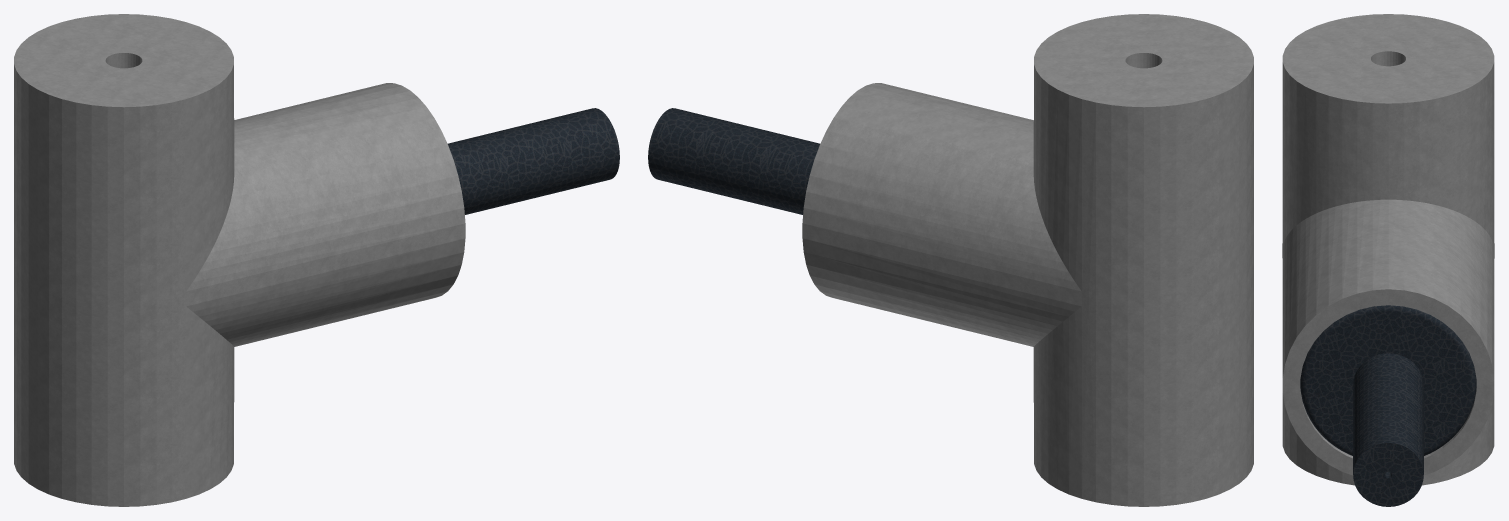
The model's file is Motor_ML.obj.
The picture shows the model from 3 angles, left to right: view 1: azimuth 30°, elevation 25°; view 2: azimuth 150°, elevation 25°; view 3: azimuth 270°, elevation 25°; orthographic projection. The views are drawn at different scales.
Visible parts, largest first — view 1: Motor_ML; view 2: Motor_ML; view 3: Motor_ML.
Part boxes in pixels (left/top/right/bottom): Motor_ML: left=14, top=14, right=619, bottom=506; Motor_ML: left=648, top=14, right=1253, bottom=506; Motor_ML: left=1282, top=14, right=1494, bottom=506.
Size of the model in its own units: 0.09 by 0.06 by 0.03.
Materials: 2 (2 with a texture image).
